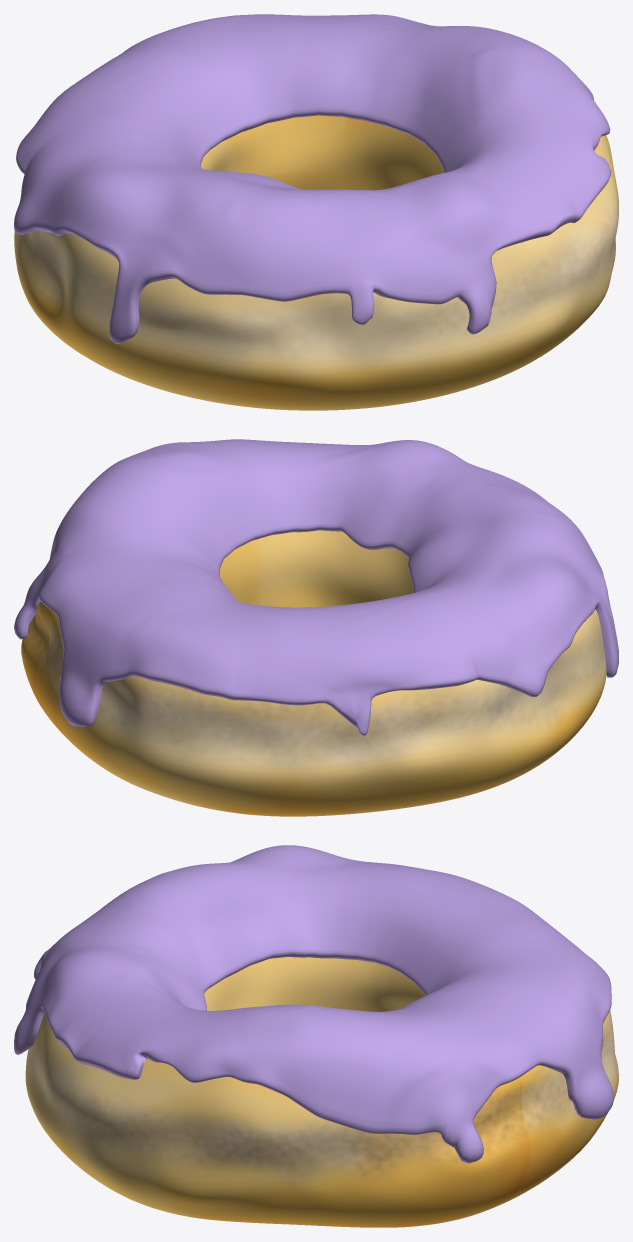
File: doughnut.fbx
3 views of the same model, one above another, from view 1: azimuth 30°, elevation 25°; view 2: azimuth 150°, elevation 25°; view 3: azimuth 270°, elevation 25° (orthographic). The views are drawn at different scales.
Visible parts, largest first — view 1: icing, doughnut; view 2: icing, doughnut; view 3: icing, doughnut.
Part boxes in pixels (<box>): icing: <box>14,14,611,343</box>; doughnut: <box>14,115,618,410</box>; icing: <box>14,439,618,735</box>; doughnut: <box>21,530,606,816</box>; icing: <box>14,845,613,1163</box>; doughnut: <box>25,957,618,1227</box>.
Size of the model in its own units: 17.48 by 7.22 by 18.35.
